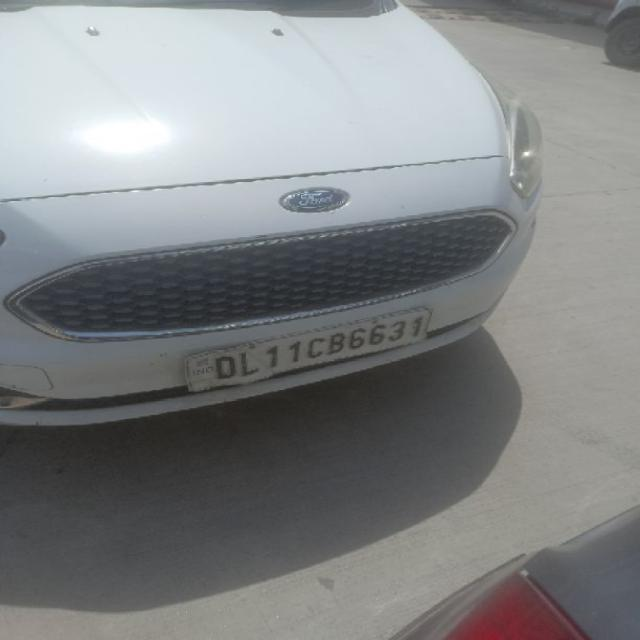license_plate: (182, 305, 433, 393)
